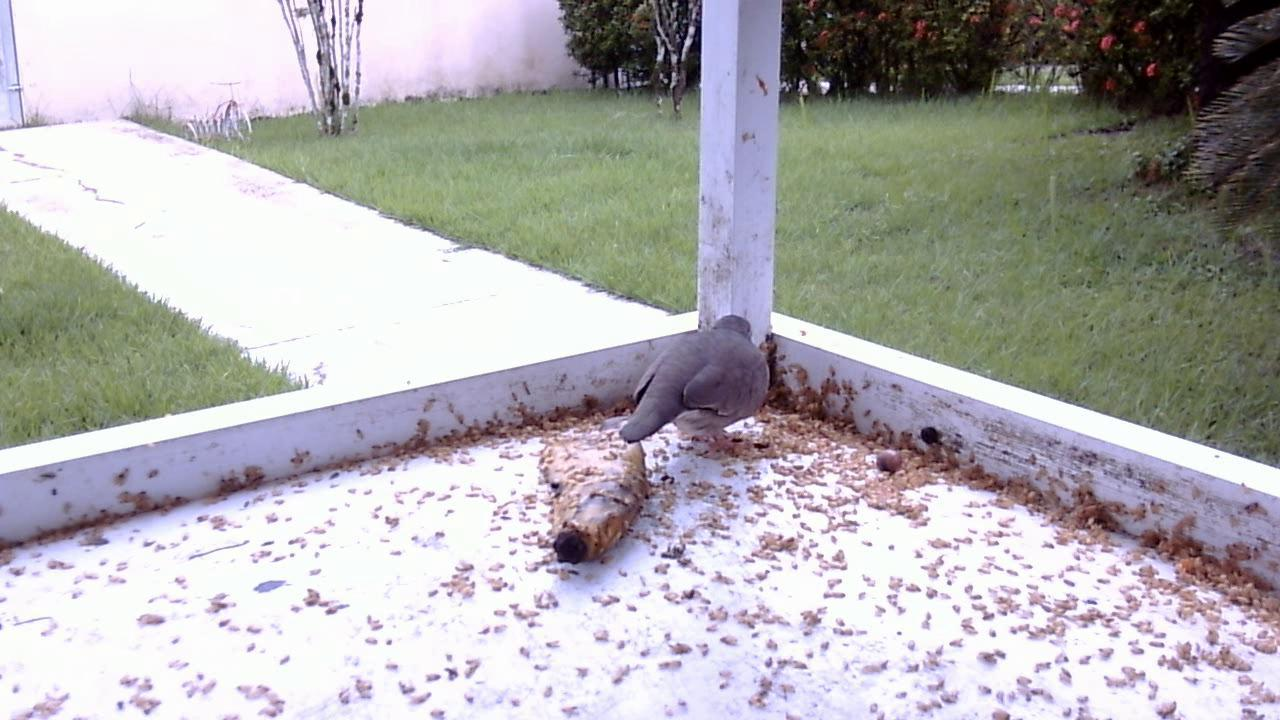rolinha: (605, 307, 773, 464)
